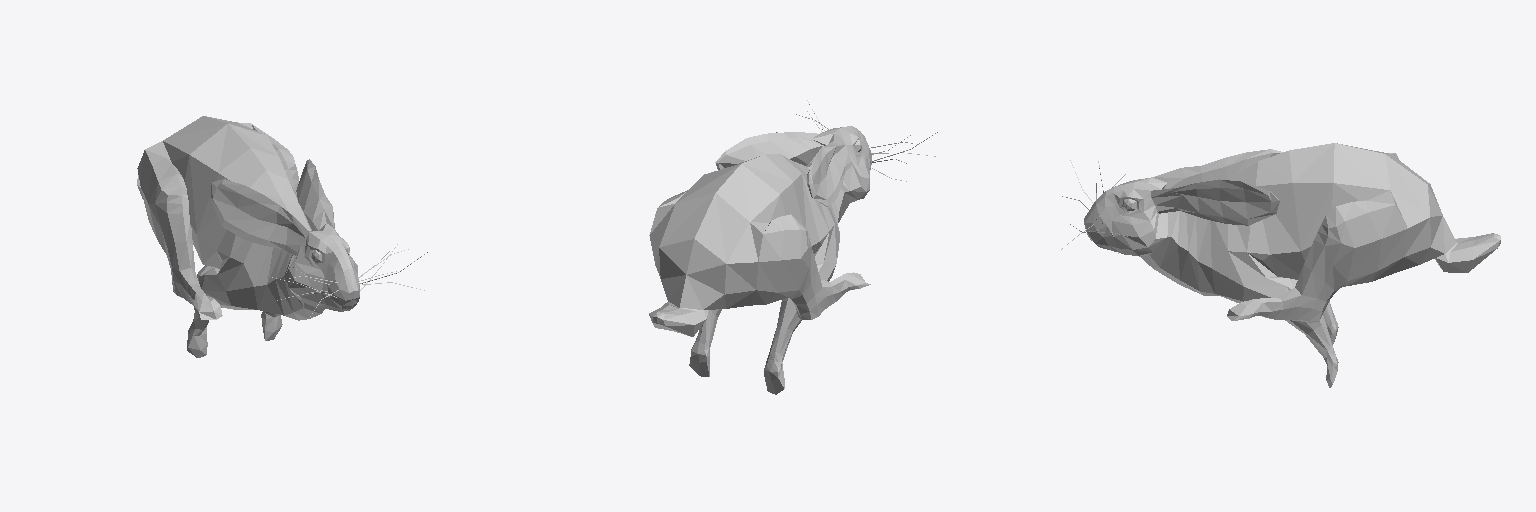
File: rabbit_13.obj
3 renders of one model, left to right at view 1: azimuth 30°, elevation 25°; view 2: azimuth 150°, elevation 25°; view 3: azimuth 270°, elevation 25°, orthographic.
Visible parts, largest first — view 1: Rabbit_Cylinder; view 2: Rabbit_Cylinder; view 3: Rabbit_Cylinder.
Part boxes in pixels (left/top/right/bottom): Rabbit_Cylinder: left=137, top=116, right=427, bottom=357; Rabbit_Cylinder: left=649, top=100, right=937, bottom=394; Rabbit_Cylinder: left=1061, top=143, right=1500, bottom=387.
Bounding box in the file's own units: 8.03 × 10.92 × 19.46.